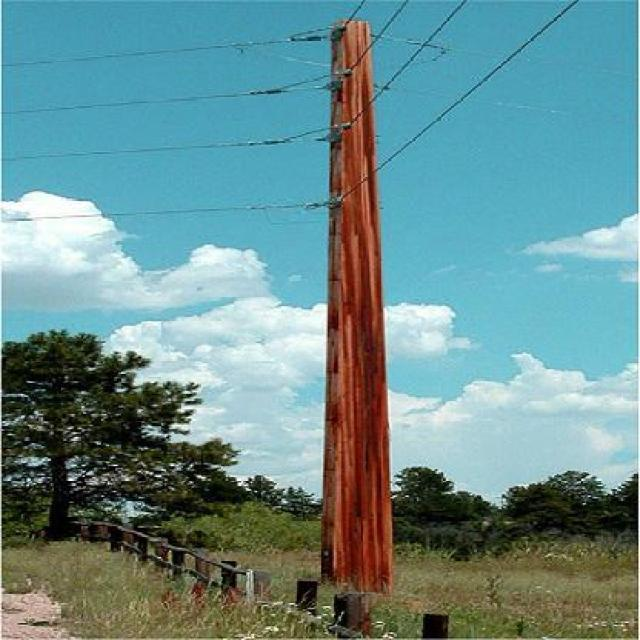non-critical vegetation: (252, 12, 451, 590)
